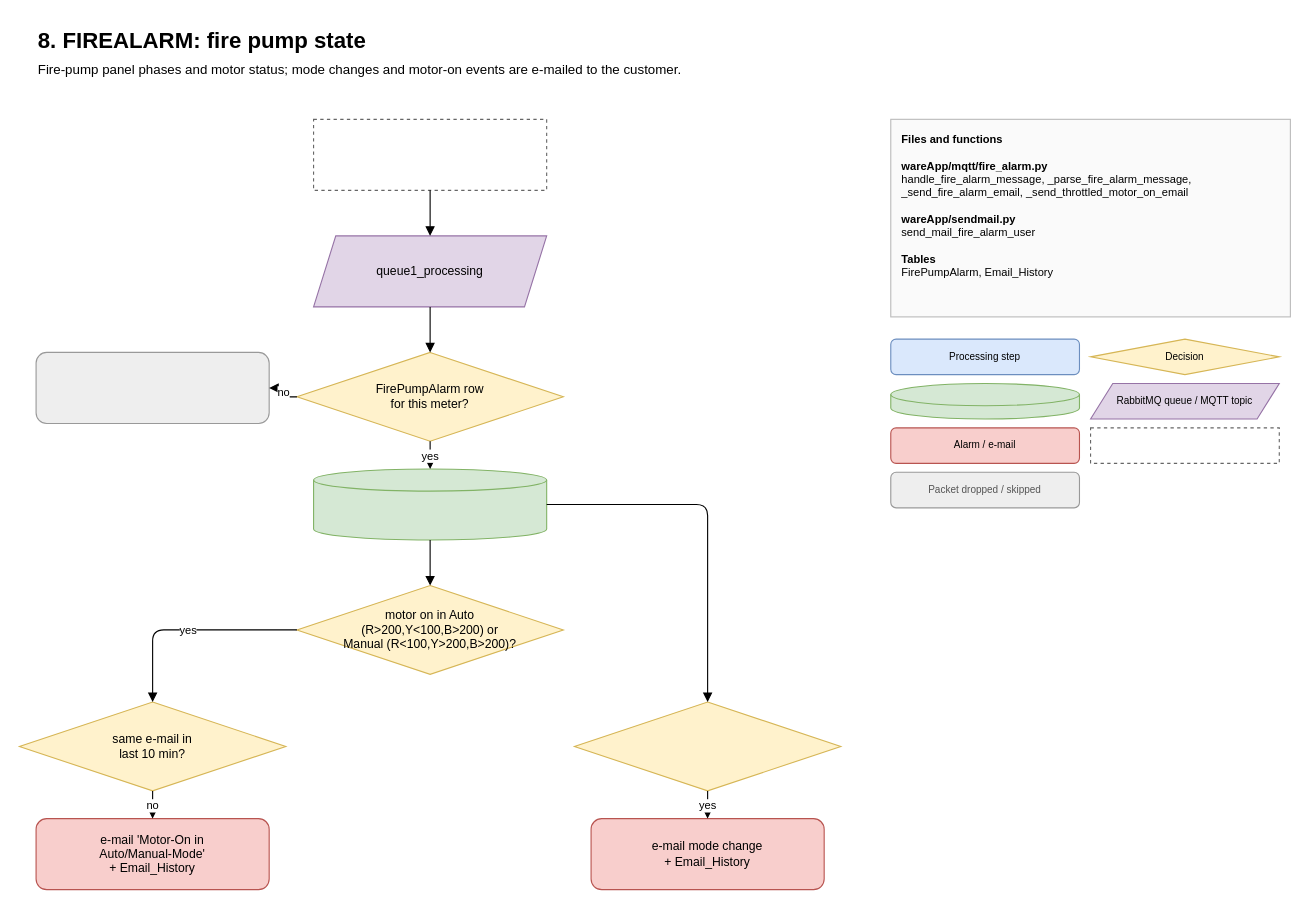
Image size: 1310x909. Some labels were removed from this diagram. Each missing label, with the box of its shape:
Database table: (890, 382, 1079, 419)
External: gateway, broker, timer: (1089, 427, 1279, 463)
FIREALARM packet meter, R/Y/B volt, power status: (312, 118, 547, 190)
previous vs new phases: mode changed (Auto/Manual/Off)?: (573, 701, 841, 791)
skipped: no fire pump record: (35, 351, 269, 423)
update FirePumpAlarm (keep previous volts): (312, 468, 547, 540)
